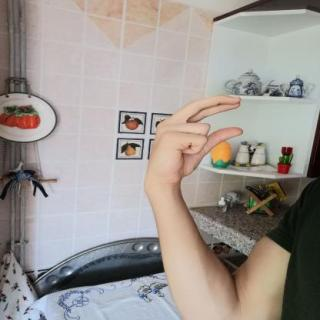DHELL: (141, 88, 253, 189)
